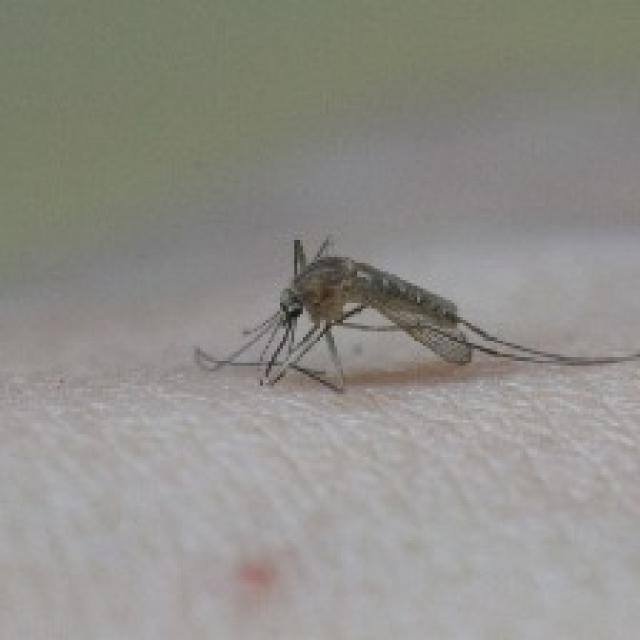culex: (192, 232, 637, 394)
